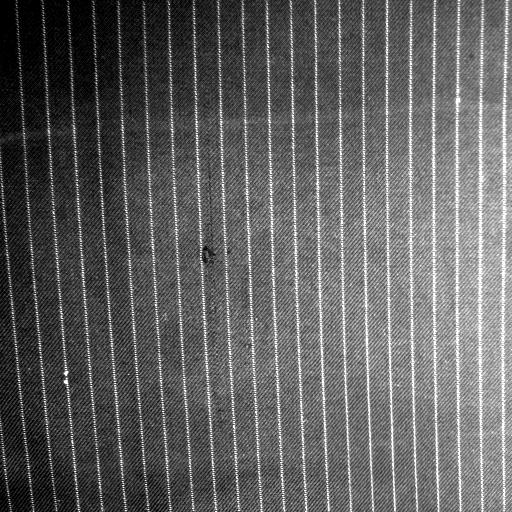fabric_hole: (198, 242, 222, 274)
